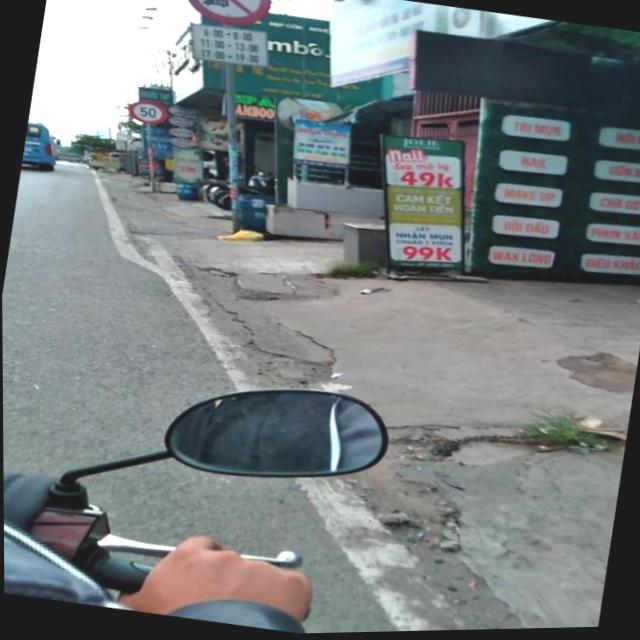Toc do toi da cho phep: (126, 98, 170, 128)
